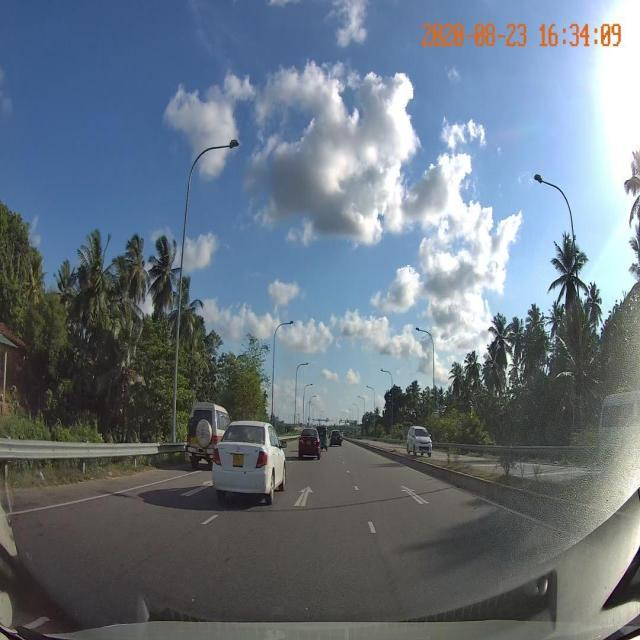Liniya 1: (3, 469, 203, 517), (198, 513, 221, 529), (367, 519, 378, 536)
Strelka vpered: (401, 484, 429, 504), (294, 486, 313, 507)
